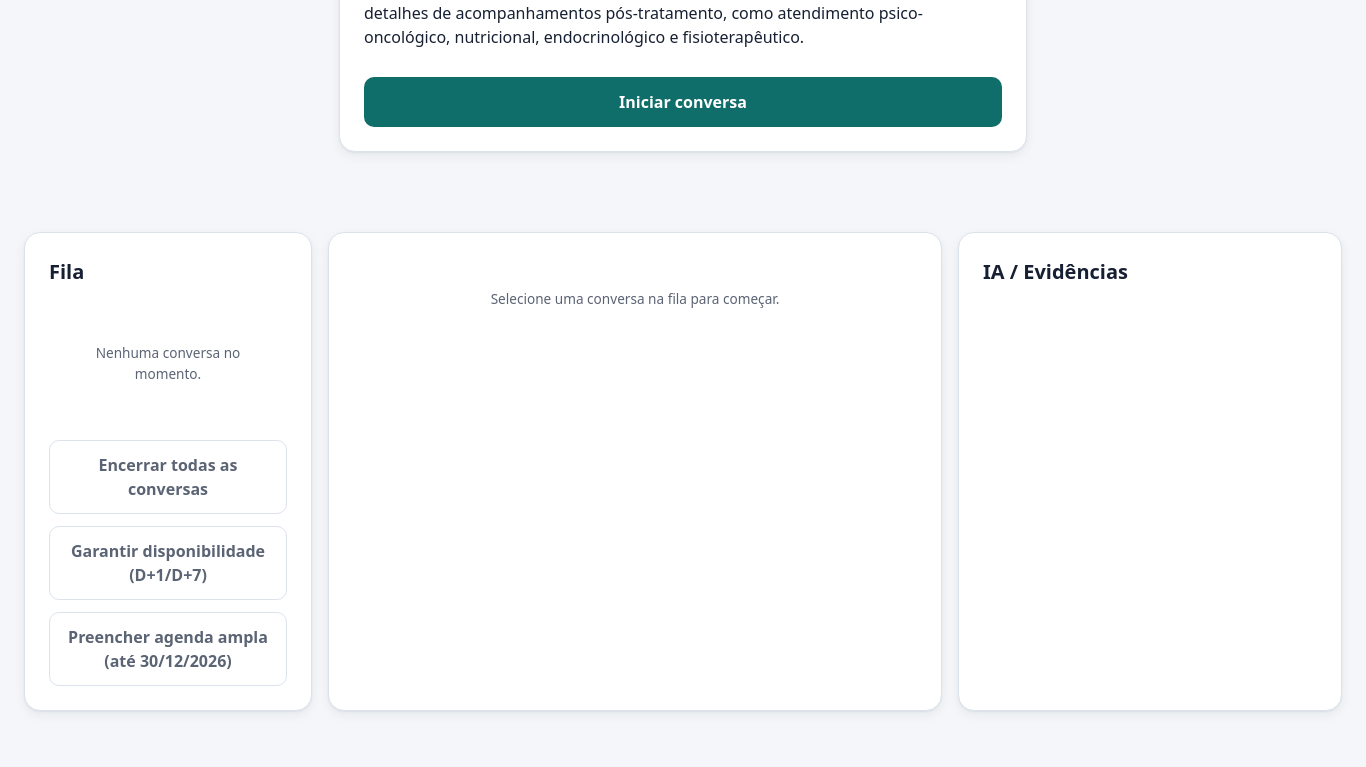
Test case: V1 routes › ensures appointment availability from the queue sidebar with no conversation selected (AA-9, T061)
The image size is (1366, 767).
(page scrolled)
What coordinates should you click on to do the following:
click the button "Garantir disponibilidade (D+1/D+7)"
I would click on:
 (168, 563)
Its box is [49,526,287,600].
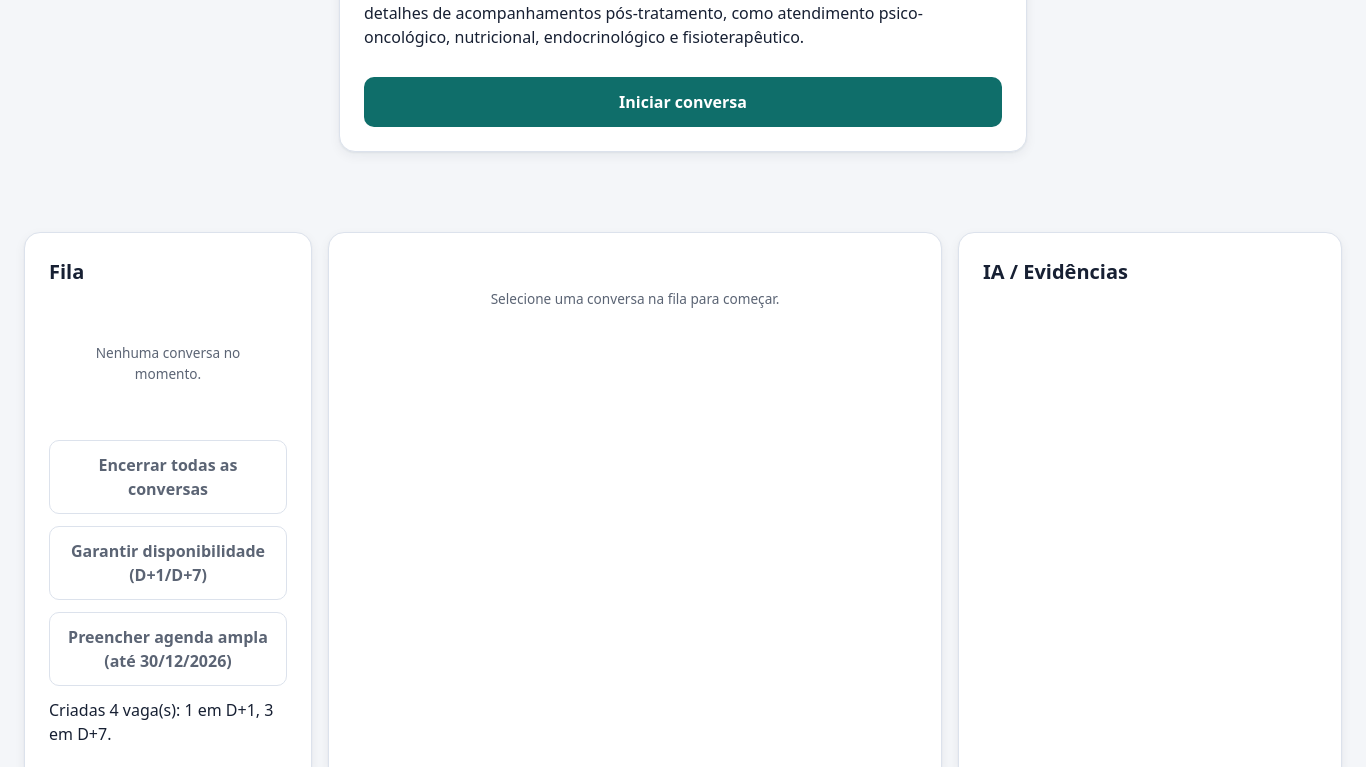
Now the text "Criadas 4 vaga(s): 1 em D+1, 3 em D+7." is shown, box [49,698,287,746]
What coordinates should you click on to do the following:
click the button "Garantir disponibilidade (D+1/D+7)"
I would click on:
 (168, 563)
Its box is [49,526,287,600].
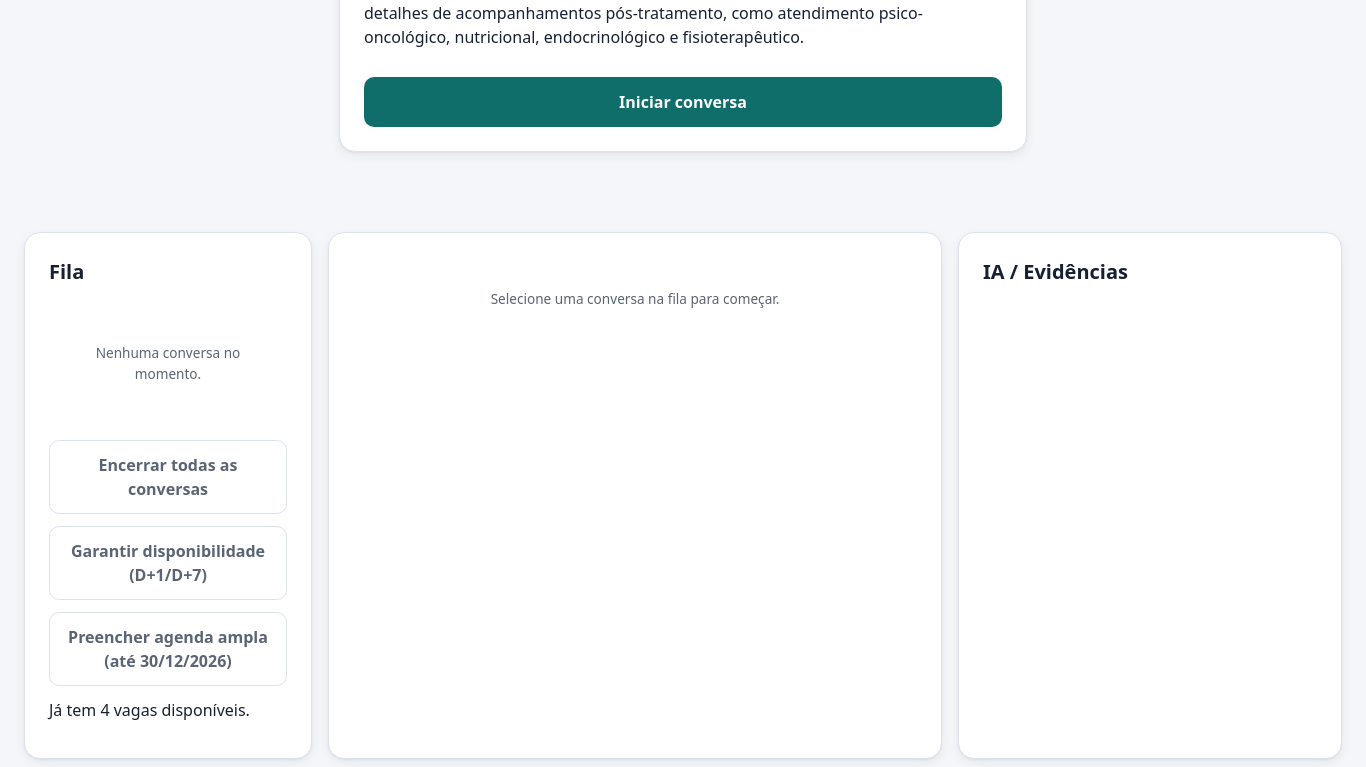
Now the text "Já tem 4 vagas disponíveis." is shown, box [49,699,250,721]
